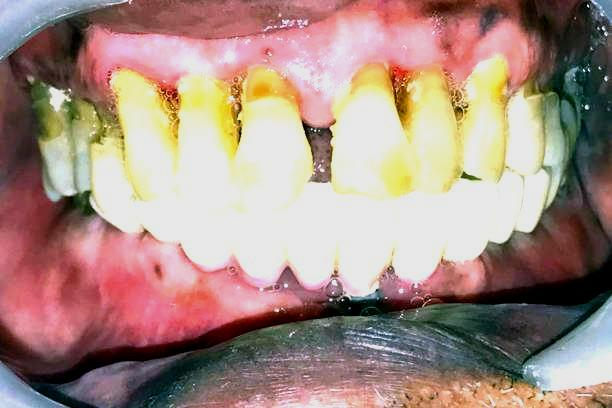Calculus: (322, 57, 410, 195), (226, 47, 314, 181), (113, 62, 189, 199), (396, 46, 471, 184), (452, 72, 521, 182), (178, 70, 240, 191)
Caries: (27, 81, 90, 170), (80, 90, 131, 184)
